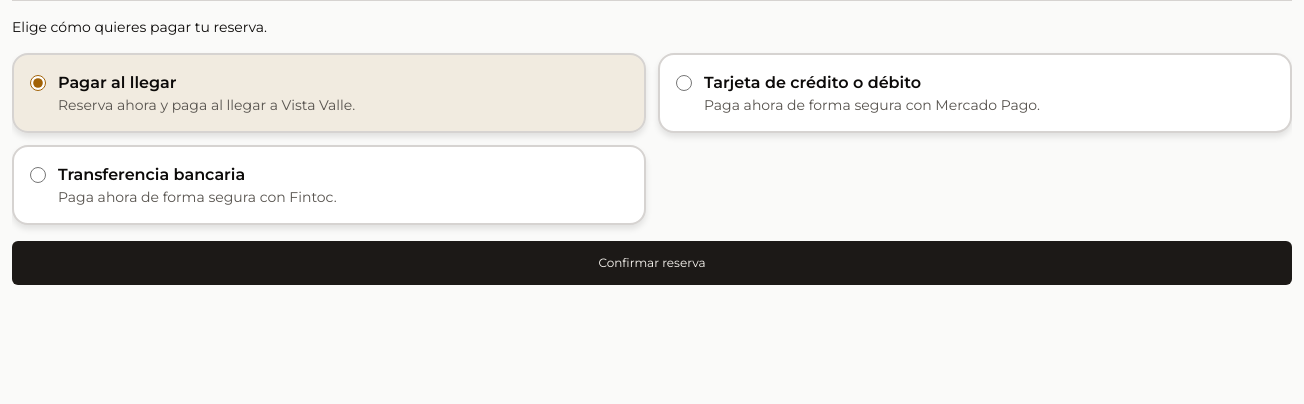
Test case: BookingConfirmationController › disables the committing action while the confirmation is pending
Click the button "Confirmar reserva" at (652, 263), box x1=12 y1=241 x2=1292 y2=285
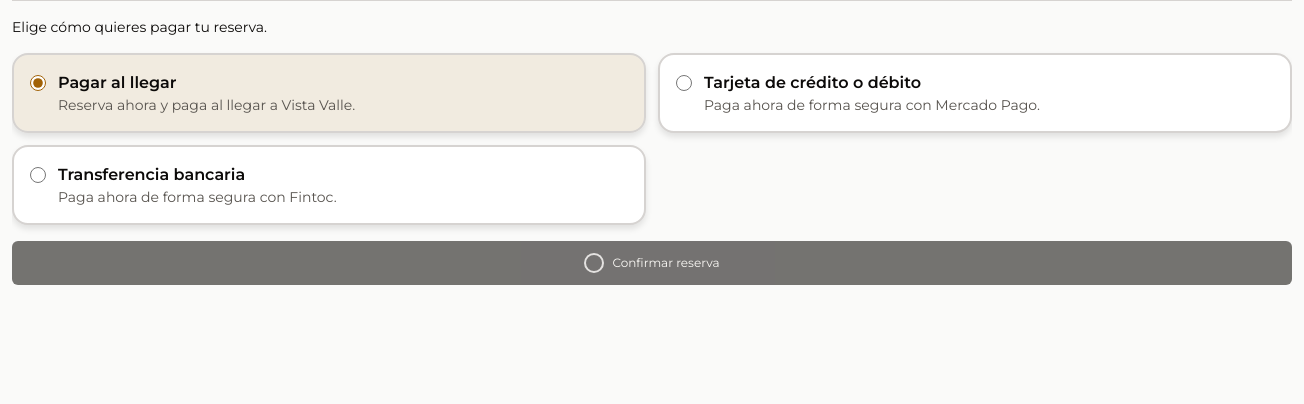
Expected: the button "Confirmar reserva" is disabled
Click the button "Confirmar reserva" at (652, 263), box x1=12 y1=241 x2=1292 y2=285
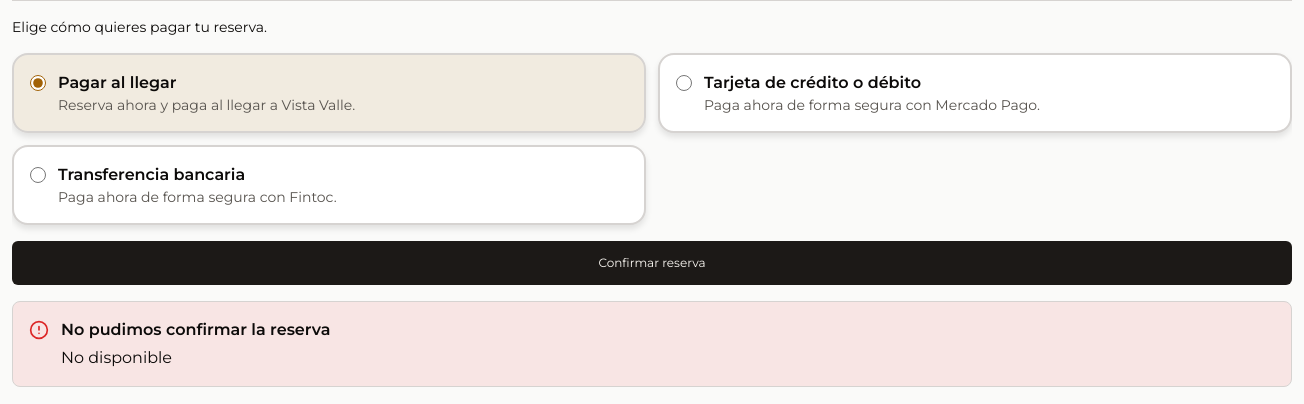
Expected: the text "No disponible" is shown, x1=61 y1=348 x2=172 y2=367
